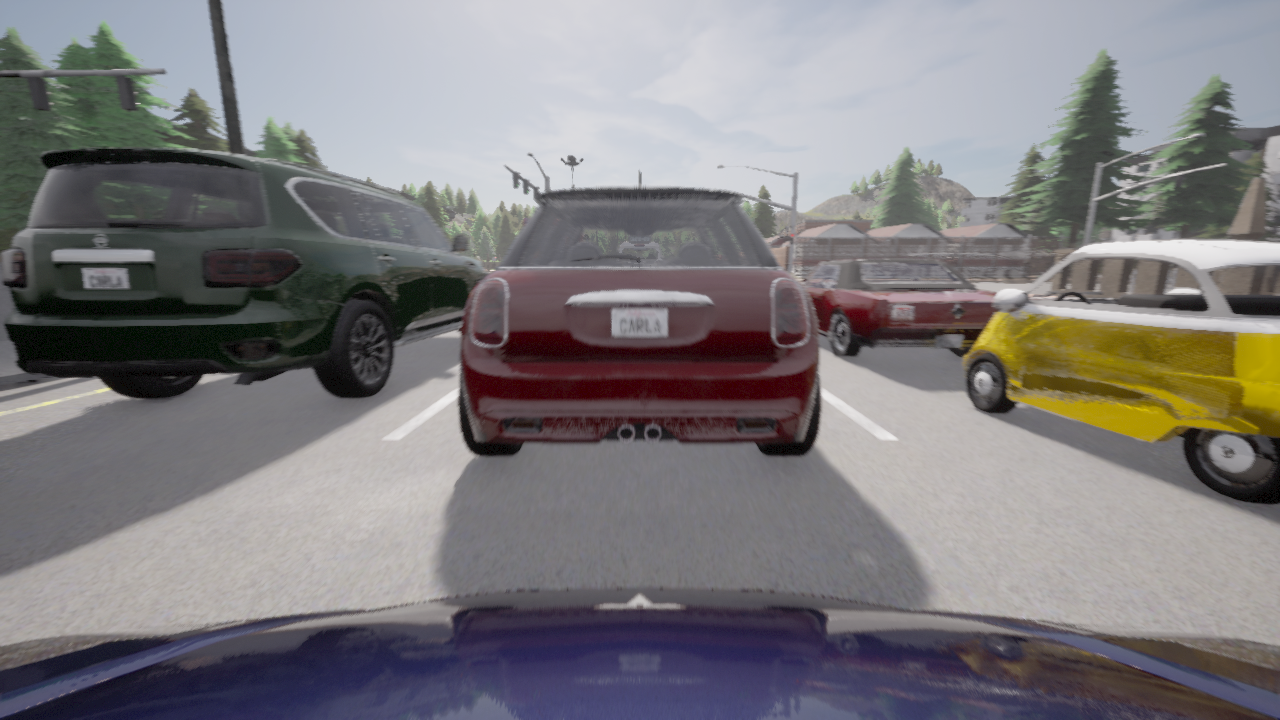cyclist: (0, 588, 1279, 719), (3, 148, 488, 398), (458, 170, 820, 455), (962, 239, 1279, 503), (799, 258, 996, 357), (523, 218, 528, 226)
